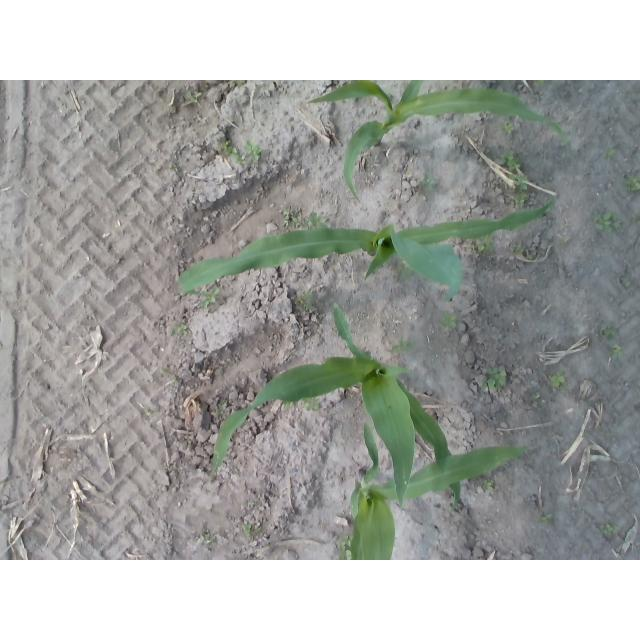Maize: (214, 302, 461, 515), (179, 200, 553, 300), (304, 80, 564, 201), (351, 424, 526, 561)
Weeds: (282, 208, 304, 229), (201, 286, 220, 308), (497, 151, 520, 169), (307, 211, 329, 229), (488, 366, 506, 386), (245, 142, 262, 163), (593, 212, 611, 230), (298, 291, 314, 311), (509, 174, 528, 190), (418, 174, 435, 190), (340, 536, 351, 560), (305, 398, 323, 412), (442, 312, 457, 328), (232, 147, 245, 165), (392, 341, 413, 352), (552, 370, 565, 387), (185, 92, 201, 105), (510, 244, 526, 257), (198, 535, 215, 546), (626, 179, 640, 192), (172, 324, 187, 336), (215, 402, 227, 417), (528, 395, 540, 408), (480, 379, 495, 389), (501, 121, 513, 133), (612, 346, 623, 358), (478, 244, 494, 252), (604, 327, 618, 336), (484, 480, 495, 491), (221, 140, 231, 152), (243, 524, 253, 536), (611, 216, 621, 228), (160, 364, 169, 377), (605, 149, 616, 159), (146, 409, 155, 420), (542, 514, 553, 523), (602, 524, 614, 532), (622, 277, 631, 287), (515, 194, 525, 203), (172, 375, 180, 385), (526, 252, 535, 260), (484, 236, 492, 244), (613, 526, 620, 535)
